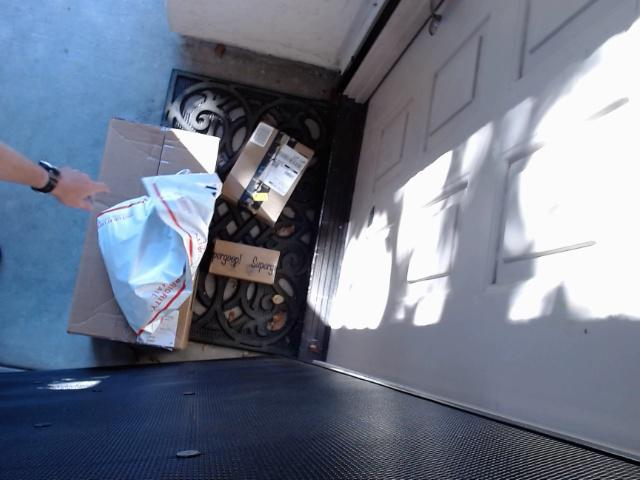box: (66, 118, 220, 350), (222, 120, 315, 226), (208, 239, 280, 285)
plastic_bag: (97, 173, 222, 344)
